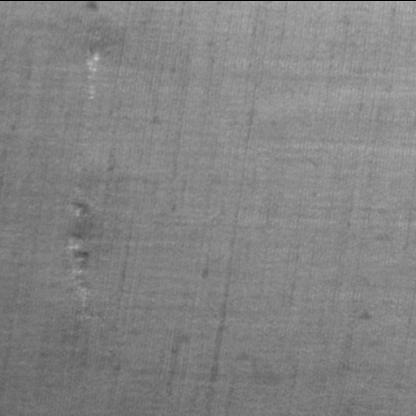thread error: (77, 19, 127, 122), (61, 197, 100, 308)
